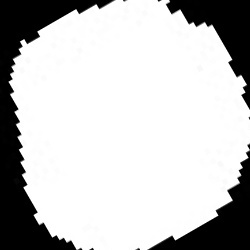spot: (9, 3, 247, 247)
